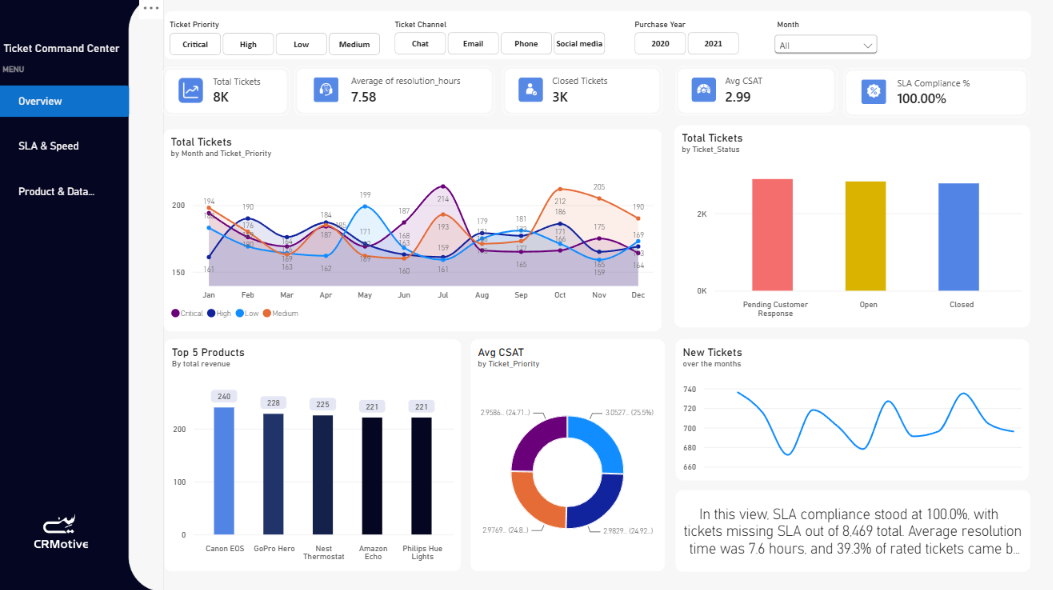

The dashboard page shown, as its layout file describes it:
{"tool":"powerbi","page":{"name":"Executive Summary","canvas":[1280,720],"ordinal":0},"visuals":[{"type":"image","box":[0,0,205.2,719.9],"z":0},{"type":"actionButton","box":[0,108.8,163.8,38.8],"z":1000},{"type":"textbox","box":[10.3,77.8,92.3,32.5],"z":2000},{"type":"shape","box":[206,19.3,1045.4,58],"z":3000},{"type":"cardVisual","fields":{"Data":["FactTickets.Total Tickets"]},"box":[203.5,86.6,153.6,58.5],"z":4000},{"type":"cardVisual","fields":{"Data":["Avg(FactTickets.resolution_hours)"]},"box":[362.7,86.2,241.8,59.2],"z":5000},{"type":"cardVisual","fields":{"Data":["FactTickets.Closed Tickets"]},"box":[614.3,86.2,192.4,59.2],"z":6000},{"type":"cardVisual","fields":{"Data":["FactTickets.Avg CSAT"]},"box":[822.8,86.2,194.9,59.2],"z":7000},{"type":"cardVisual","fields":{"Data":["FactTickets.SLA Compliance %"]},"box":[1025.9,88.2,223.7,59.2],"z":8000},{"type":"lineChart","fields":{"Category":["DimDate.Month"],"Series":["DimPriority.Ticket_Priority"],"Y":["FactTickets.Total Tickets"]},"box":[205,162,600.7,244.2],"z":9000},{"type":"clusteredColumnChart","fields":{"Category":["DimStatus.Ticket_Status"],"Y":["FactTickets.Total Tickets"]},"box":[821,157.1,428.8,244.1],"z":10000},{"type":"clusteredColumnChart","title":"Top 5 Products","fields":{"Category":["DimProduct.Product_Purchased"],"Y":["FactTickets.Total Tickets"]},"box":[206.1,415.6,357.7,280],"z":11000},{"type":"card","fields":{"Values":["FactTickets.Auto Summary Text"]},"box":[822.8,596.9,428,98.7],"z":12000},{"type":"donutChart","fields":{"Category":["DimPriority.Ticket_Priority"],"Y":["FactTickets.Avg CSAT"]},"box":[576,415.6,234,280],"z":13000},{"type":"lineChart","title":"New Tickets","fields":{"Category":["FactTickets.Purchase_Month"],"Y":["FactTickets.Total Tickets"]},"box":[822.8,415.6,426.8,170.2],"z":14000},{"type":"advancedSlicerVisual","title":"Ticket Priority","fields":{"Values":["DimPriority.Ticket_Priority"]},"box":[212.5,30,310,47.5],"z":15000},{"type":"advancedSlicerVisual","title":"Ticket Channel","fields":{"Values":["DimChannel.Ticket_Channel"]},"box":[483.8,30,270,47.5],"z":16000},{"type":"advancedSlicerVisual","title":"Purchase Year","fields":{"Values":["FactTickets.Purchase_Year"]},"box":[773.8,30,133.8,50],"z":17000},{"type":"slicer","title":"Purchase Month","fields":{"Values":["DimDate.Month"]},"box":[937.5,30,133.8,47.5],"z":18000},{"type":"actionButton","box":[0,162.5,163.8,38.8],"z":19000},{"type":"actionButton","box":[0,218.8,163.8,38.8],"z":20000},{"type":"image","box":[41,623.7,80.8,45.8],"z":21000},{"type":"actionButton","box":[0,36.2,164.1,57.9],"z":21001}]}

Visuals, with their boxes on the page's 1280x720 design canvas (x1, y1, x2, y2). These are canvas units, not pixel positions in the 1053x590 screenshot, which may show the page scaled, cropped or inside an application window:
image: box=[0, 0, 205, 720]
actionButton: box=[0, 109, 164, 148]
textbox: box=[10, 78, 103, 110]
shape: box=[206, 19, 1251, 77]
cardVisual - FactTickets.Total Tickets: box=[204, 87, 357, 145]
cardVisual - Avg(FactTickets.resolution_hours): box=[363, 86, 604, 145]
cardVisual - FactTickets.Closed Tickets: box=[614, 86, 807, 145]
cardVisual - FactTickets.Avg CSAT: box=[823, 86, 1018, 145]
cardVisual - FactTickets.SLA Compliance %: box=[1026, 88, 1250, 147]
lineChart - DimDate.Month x DimPriority.Ticket_Priority: box=[205, 162, 806, 406]
clusteredColumnChart - DimStatus.Ticket_Status x FactTickets.Total Tickets: box=[821, 157, 1250, 401]
"Top 5 Products" clusteredColumnChart: box=[206, 416, 564, 696]
card - FactTickets.Auto Summary Text: box=[823, 597, 1251, 696]
donutChart - DimPriority.Ticket_Priority x FactTickets.Avg CSAT: box=[576, 416, 810, 696]
"New Tickets" lineChart: box=[823, 416, 1250, 586]
"Ticket Priority" advancedSlicerVisual: box=[212, 30, 522, 78]
"Ticket Channel" advancedSlicerVisual: box=[484, 30, 754, 78]
"Purchase Year" advancedSlicerVisual: box=[774, 30, 908, 80]
"Purchase Month" slicer: box=[938, 30, 1071, 78]
actionButton: box=[0, 162, 164, 201]
actionButton: box=[0, 219, 164, 258]
image: box=[41, 624, 122, 670]
actionButton: box=[0, 36, 164, 94]
